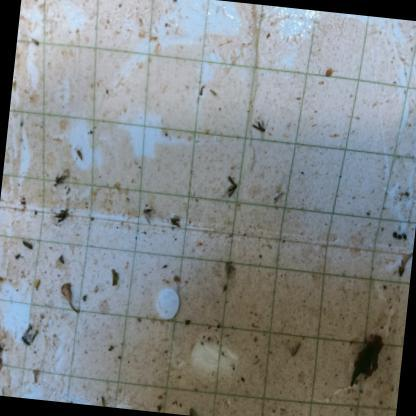prays_oleae: (223, 168, 242, 202), (50, 202, 71, 232), (248, 115, 268, 144), (51, 170, 71, 196), (141, 203, 156, 223), (19, 236, 36, 253), (168, 214, 182, 233)
